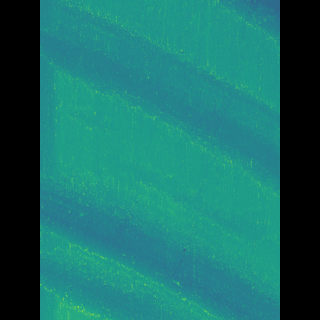Loch: (68, 0, 250, 209), (69, 170, 250, 320)
